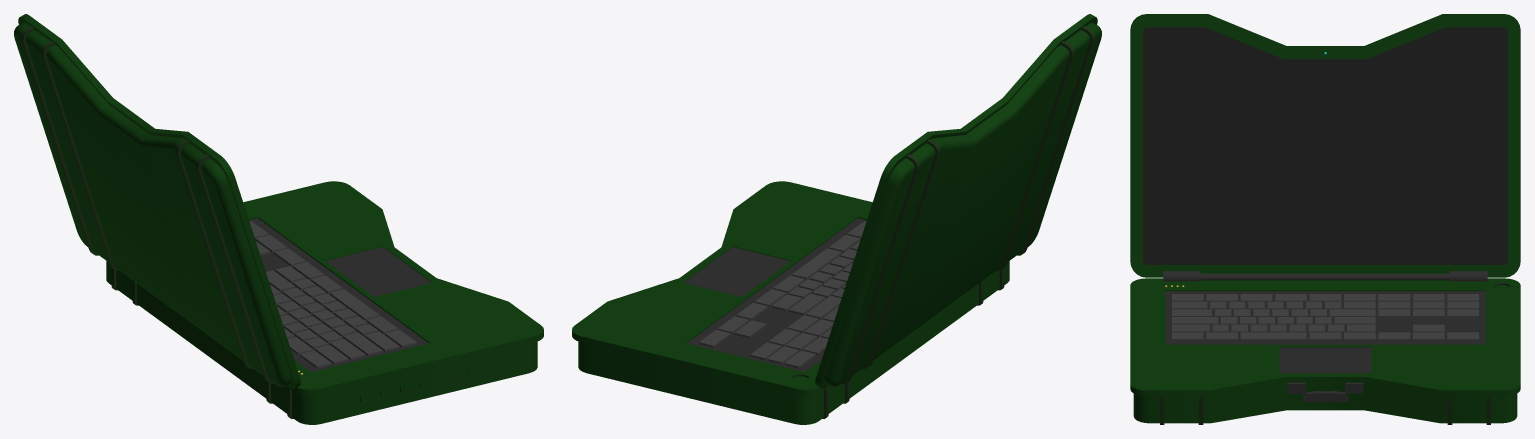
File: MilitaryLaptop.glb
3 views of the same model, side by side, from view 1: azimuth 30°, elevation 25°; view 2: azimuth 150°, elevation 25°; view 3: azimuth 270°, elevation 25° (orthographic). The views are drawn at different scales.
Visible parts, largest first — view 1: Base; view 2: Base; view 3: Base.
Boxes of the visible parts, x1,y1,x2,y2 form: Base: [14, 14, 543, 424]; Base: [572, 14, 1101, 424]; Base: [1130, 14, 1520, 424].
Bounding box in the file's own units: 2.82 × 2.31 × 3.06.
